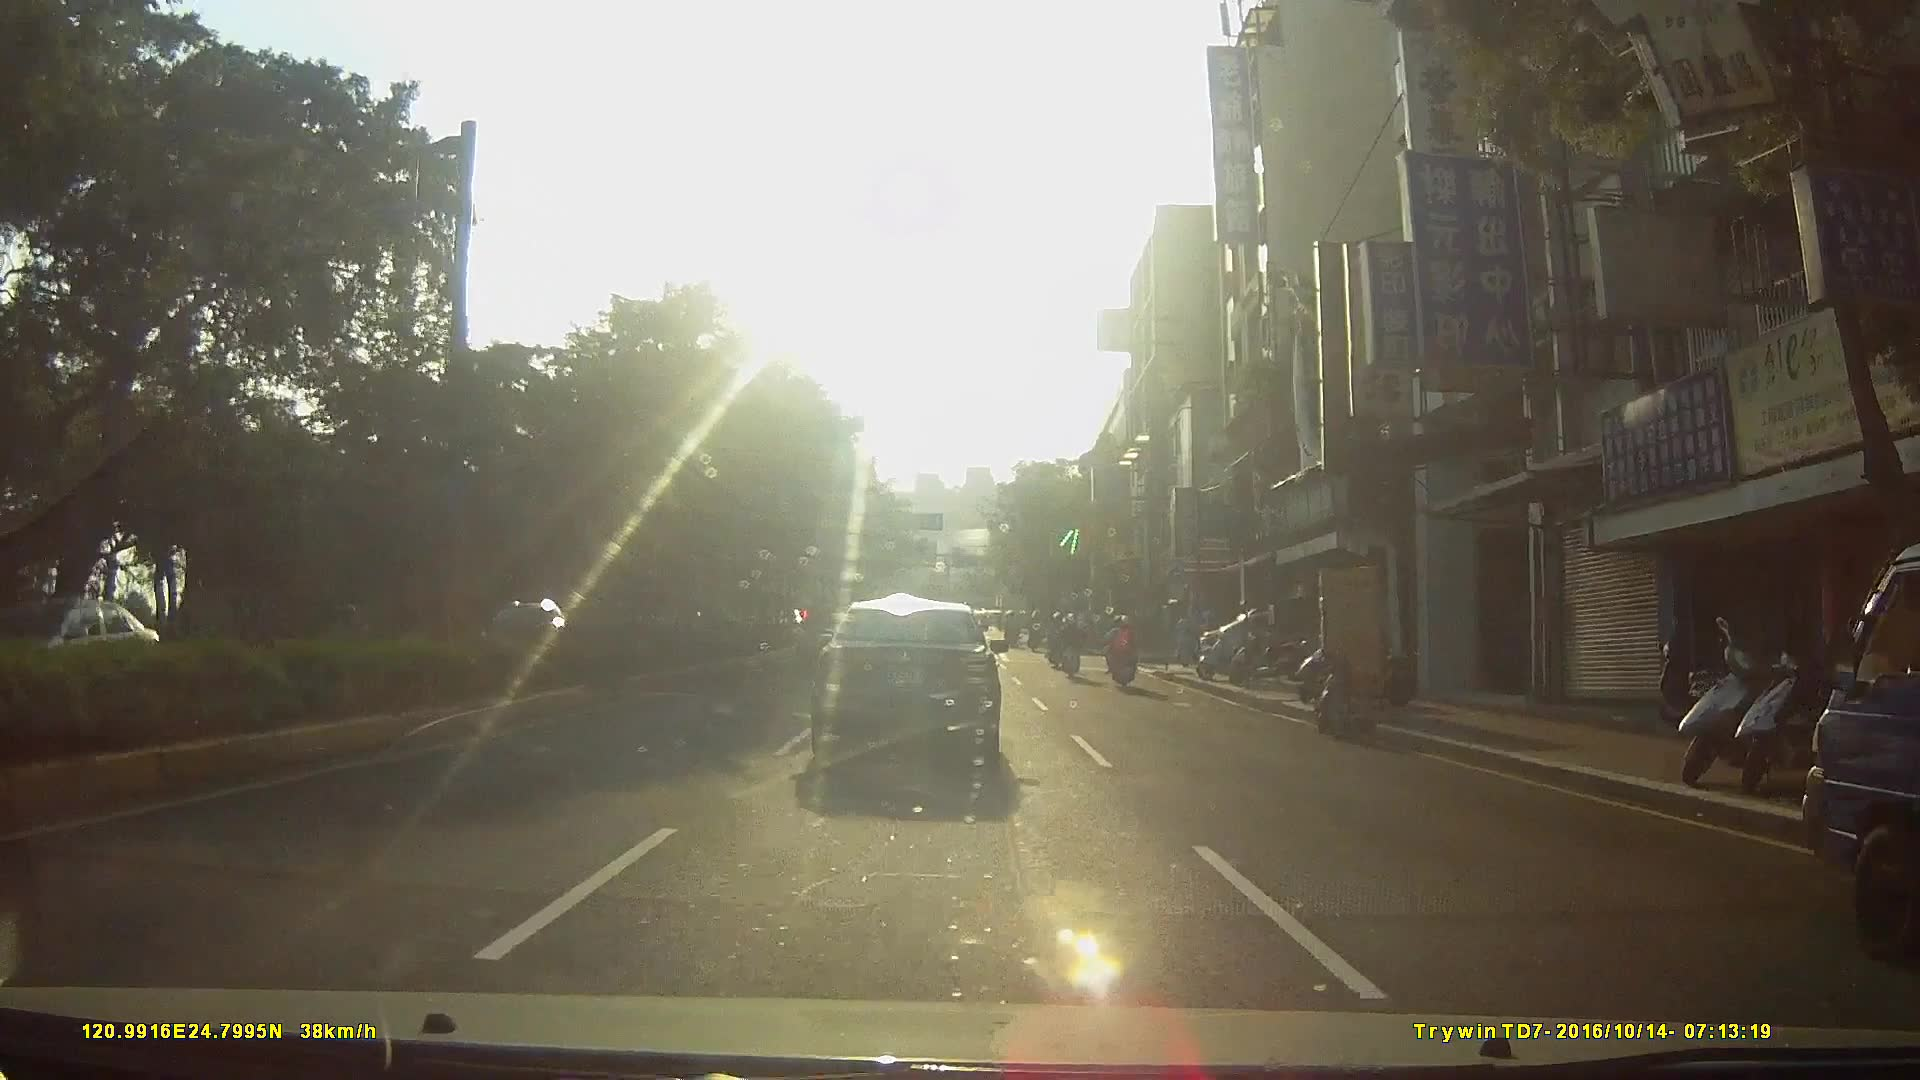rider: (1106, 617, 1140, 692), (1059, 612, 1085, 679), (1047, 611, 1069, 670)
vehicle: (1791, 533, 1920, 965), (808, 597, 1024, 789), (19, 598, 174, 698)
